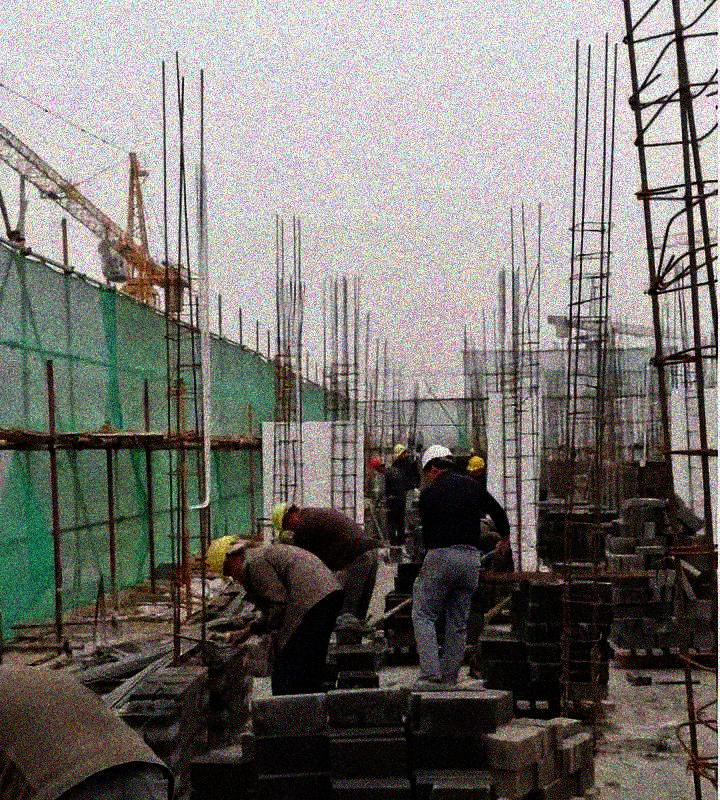helmet: (206, 536, 246, 579), (419, 444, 455, 479), (271, 500, 298, 532), (464, 454, 486, 478), (368, 455, 386, 473), (393, 443, 409, 459)
